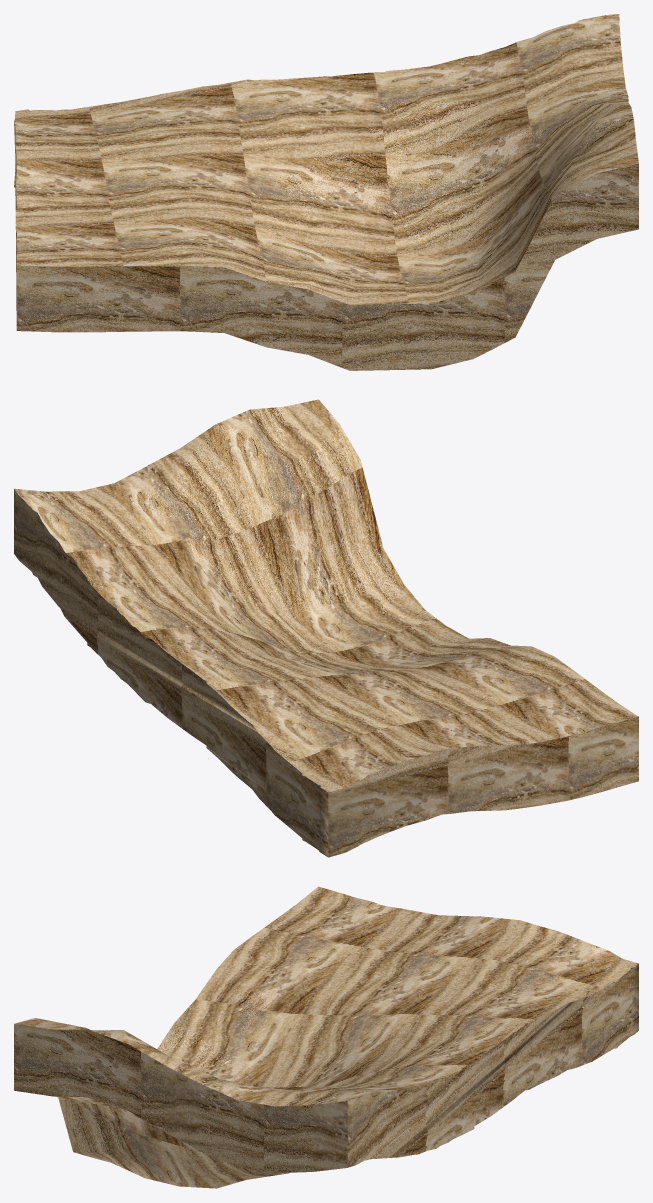
3 renders of one model, top to bottom at view 1: azimuth 30°, elevation 25°; view 2: azimuth 150°, elevation 25°; view 3: azimuth 270°, elevation 25°, orthographic. The views are drawn at different scales.
Parts seen in each view (by area): view 1: T; view 2: T; view 3: T.
Part boxes in pixels (x1,y1,x2,y2): T: [14, 14, 638, 370]; T: [14, 399, 638, 857]; T: [14, 886, 638, 1188].
Bounding box in the file's own units: 1718 × 587 × 1480.
1 material, 1 textured.
